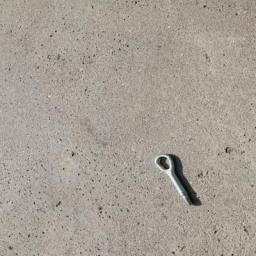FOD: (153, 154, 204, 208)
